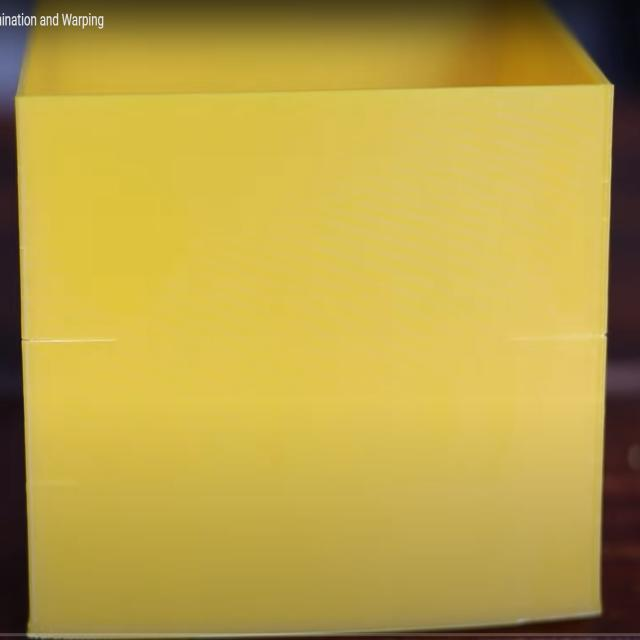Warping: (16, 321, 142, 361), (494, 316, 622, 354)
